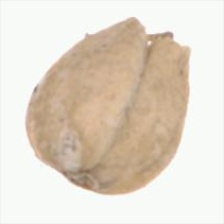L1: (126, 16, 192, 59), (56, 163, 106, 193)
L2: (24, 17, 190, 195)
